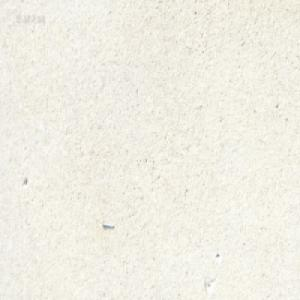Nail: (100, 219, 114, 229)
